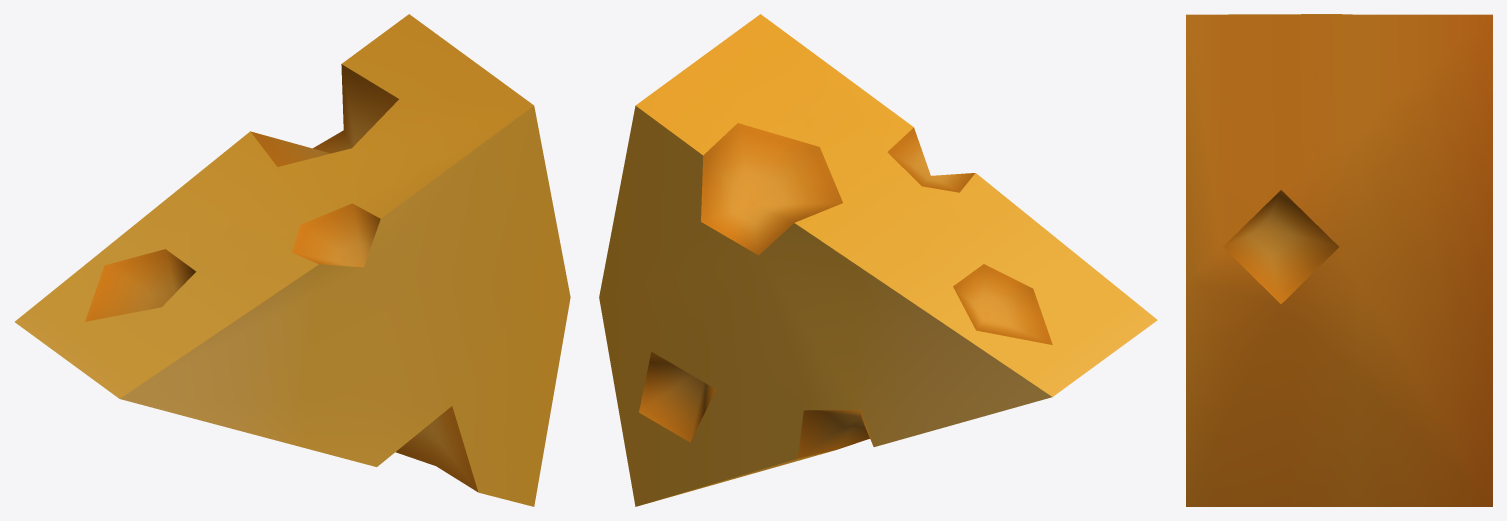
Rendered from Cheese_02.fbx.
The picture shows the model from 3 angles, left to right: view 1: azimuth 30°, elevation 25°; view 2: azimuth 150°, elevation 25°; view 3: azimuth 270°, elevation 25°; orthographic projection. The views are drawn at different scales.
Parts seen in each view (by area): view 1: Cheese_02; view 2: Cheese_02; view 3: Cheese_02.
Boxes of the visible parts, bbox=[...] form: Cheese_02: bbox=[15, 14, 570, 506]; Cheese_02: bbox=[599, 14, 1157, 506]; Cheese_02: bbox=[1186, 14, 1492, 506].
Size of the model in its own units: 10.23 by 5.01 by 8.87.
